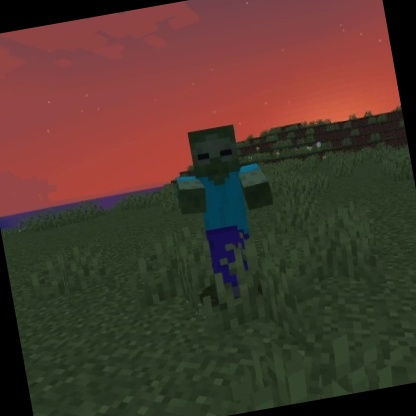zombie: (164, 116, 294, 310)
